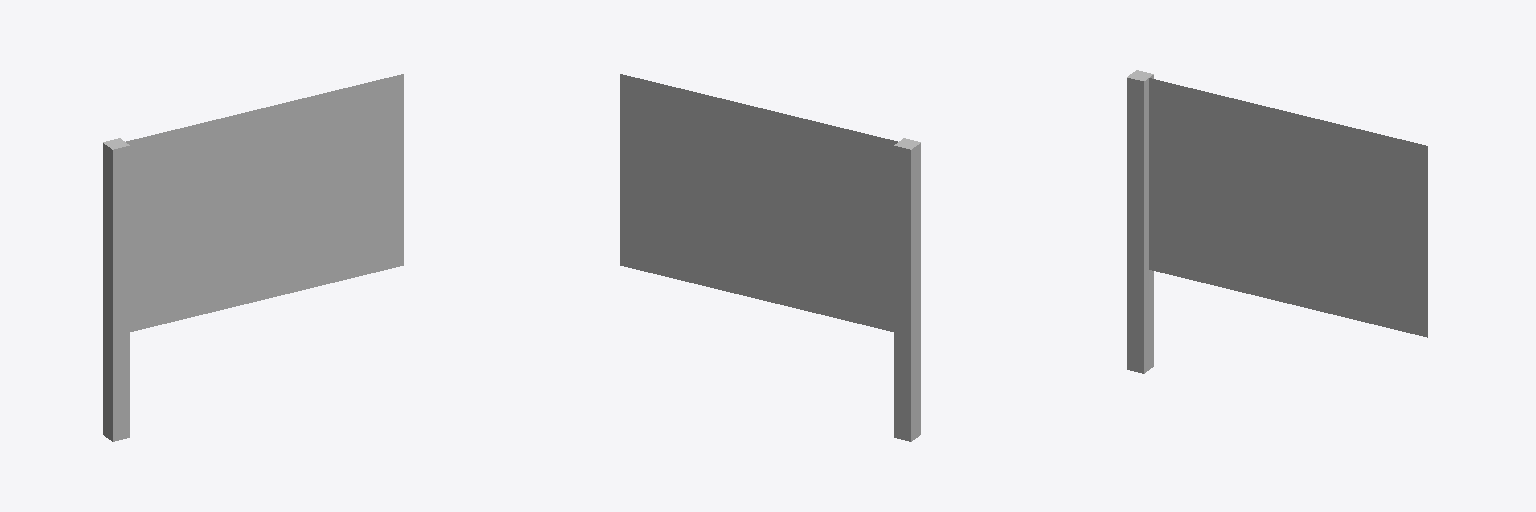
Rendered from usa_flag.obj.
The picture shows the model from 3 angles: view 1: azimuth 30°, elevation 25°; view 2: azimuth 150°, elevation 25°; view 3: azimuth 330°, elevation 25°; orthographic projection.
Visible parts, largest first — view 1: cube; view 2: cube; view 3: cube.
Boxes of the visible parts, box(x1,y1,x2,y2) form: cube: box(103, 74, 403, 441); cube: box(620, 74, 920, 441); cube: box(1127, 70, 1427, 373).
Bounding box in the file's own units: 2.12 × 2 × 0.125.